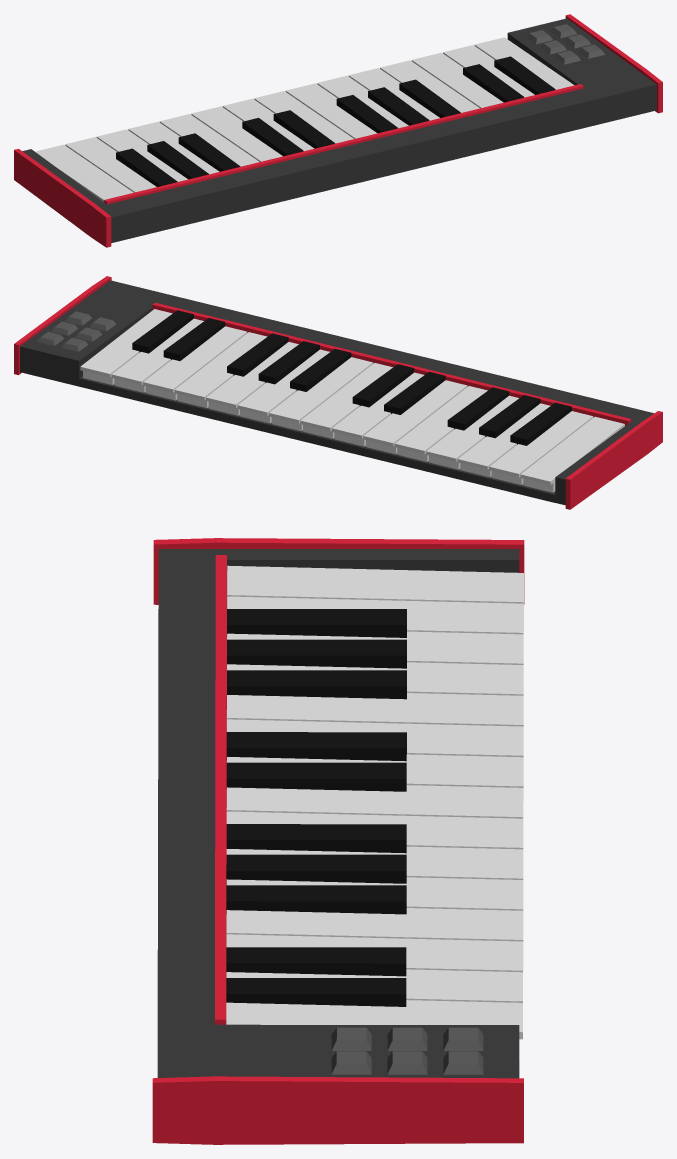
File: Piano2.0.fbx
3 renders of one model, top to bottom at view 1: azimuth 30°, elevation 25°; view 2: azimuth 150°, elevation 25°; view 3: azimuth 270°, elevation 25°, orthographic. The views are drawn at different scales.
Visible parts, largest first — view 1: Front_low.001, Back, C_3, E, E_2, B, B_2, Buttons, F_2, F, C_2, C (+16 smaller); view 2: Front_low.001, Back, C_3, E, E_2, B, B_2, F_2, F, C_2, C, A_2 (+16 smaller); view 3: Front_low.001, C_3, F_2, F, C_2, C, E, B, E_2, Buttons, Back, B_2 (+17 smaller).
Part boxes in pixels (x1,y1,x2,y2): Front_low.001: [14, 14, 662, 247]; Back: [104, 84, 583, 204]; C_3: [35, 144, 133, 201]; E: [411, 52, 503, 108]; E_2: [191, 106, 282, 161]; B: [285, 83, 377, 138]; B_2: [65, 137, 156, 192]; Buttons: [526, 24, 604, 64]; F_2: [159, 114, 259, 166]; F: [380, 60, 479, 112]; C_2: [254, 91, 353, 143]; C: [474, 37, 574, 89]; Front_low.001: [14, 276, 662, 509]; Back: [79, 302, 631, 502]; C_3: [520, 416, 624, 492]; E: [143, 326, 247, 400]; E_2: [363, 380, 467, 454]; B: [269, 357, 373, 431]; B_2: [489, 411, 593, 484]; F_2: [394, 386, 487, 461]; F: [174, 332, 267, 407]; C_2: [300, 363, 392, 438]; C: [80, 309, 172, 384]; A_2: [457, 403, 550, 477]; Front_low.001: [152, 538, 524, 1144]; C_3: [227, 565, 523, 603]; F_2: [226, 693, 523, 726]; F: [226, 908, 523, 941]; C_2: [226, 785, 523, 818]; C: [226, 1000, 522, 1039]; E: [226, 934, 523, 972]; B: [226, 811, 523, 849]; E_2: [226, 719, 523, 757]; Buttons: [331, 1027, 483, 1074]; Back: [215, 555, 226, 1024]; B_2: [227, 596, 523, 634].
Size of the model in its own units: 1581 by 90.2 by 457.
